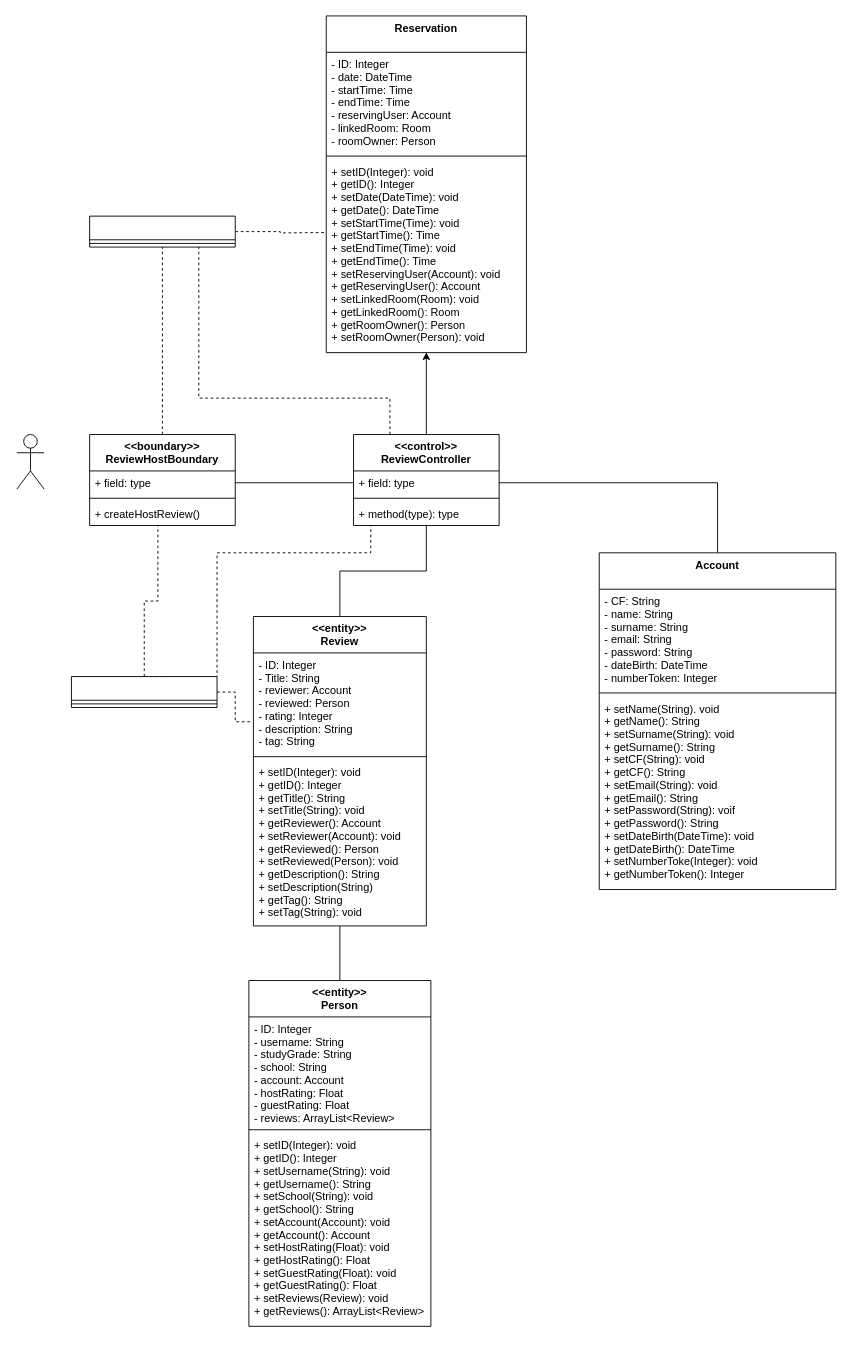
Image size: 852x1345. Some labels were removed from this diagram. Here are the shapes that lost their labels. From the top down, the centre of each, then its label:
At point (162, 231): "ReservationBean".
At point (30, 461): "Guest".
At point (144, 692): "ReviewBean".
